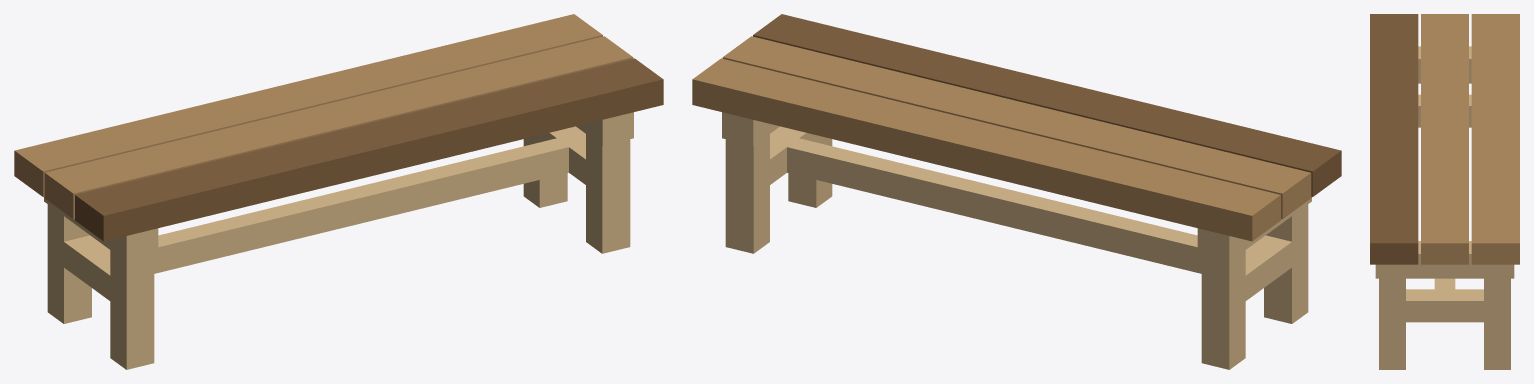
File: TW_BENCH_SIMPLE_A_LOD0.glb
3 renders of one model, left to right at view 1: azimuth 30°, elevation 25°; view 2: azimuth 150°, elevation 25°; view 3: azimuth 270°, elevation 25°, orthographic. The views are drawn at different scales.
Visible parts, largest first — view 1: TW_BENCH_SIMPLE_A_LOD0; view 2: TW_BENCH_SIMPLE_A_LOD0; view 3: TW_BENCH_SIMPLE_A_LOD0.
Boxes of the visible parts, <box> form: TW_BENCH_SIMPLE_A_LOD0: <box>14,14,663,369</box>; TW_BENCH_SIMPLE_A_LOD0: <box>692,14,1341,369</box>; TW_BENCH_SIMPLE_A_LOD0: <box>1370,14,1519,369</box>.
Size of the model in its own units: 1.6 by 0.45 by 0.442.
Materials: 1 (1 with a texture image).
